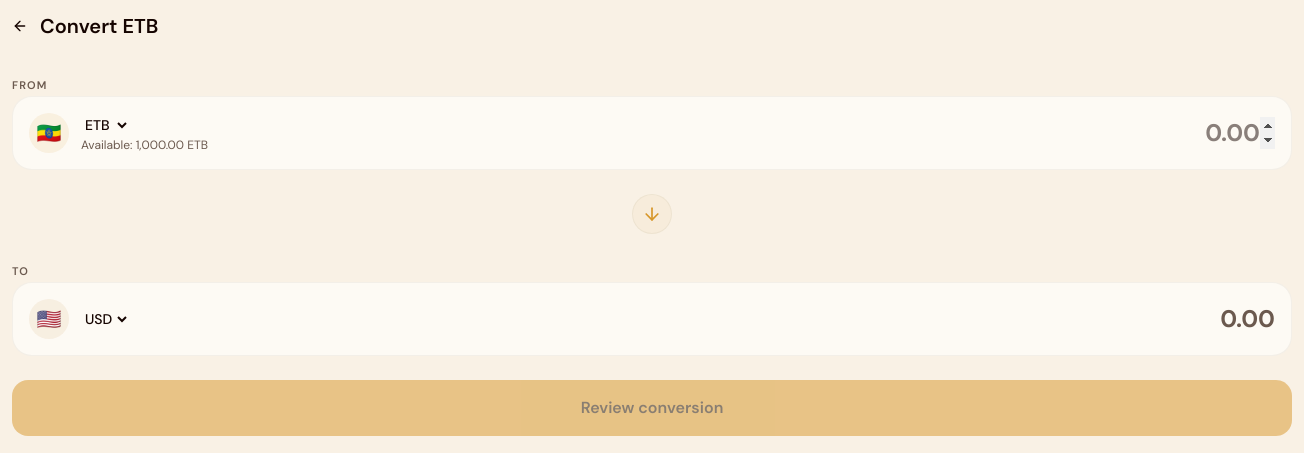
Test: ConvertPage › shows Rate unavailable when rate ask is 0 and amount entered
Type "100" into the number field with placeholder "0.00" at (1211, 133), box x1=1147 y1=117 x2=1275 y2=149
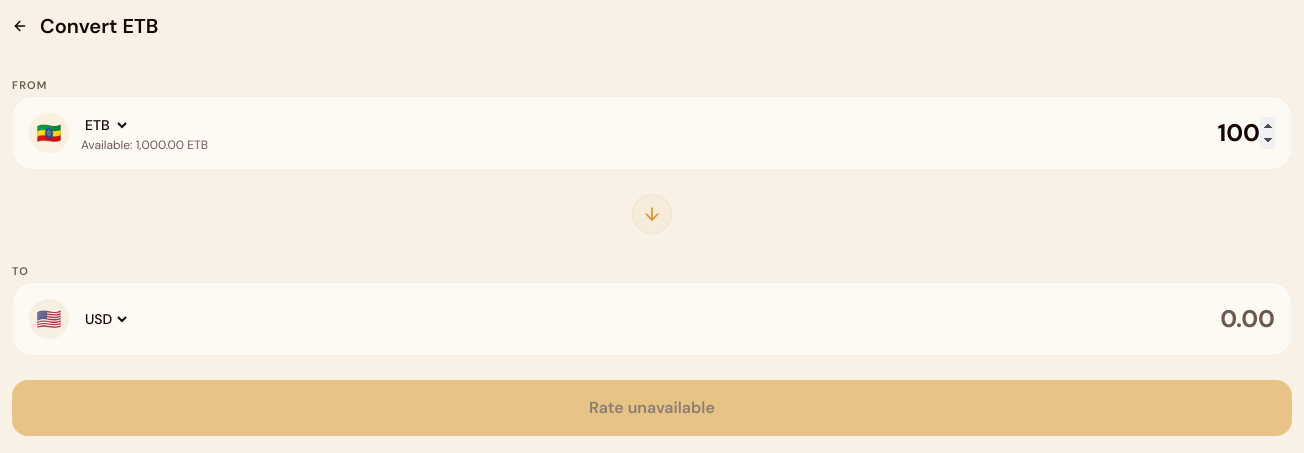
expect the button "Rate unavailable" is shown: met, box x1=12 y1=380 x2=1292 y2=436
